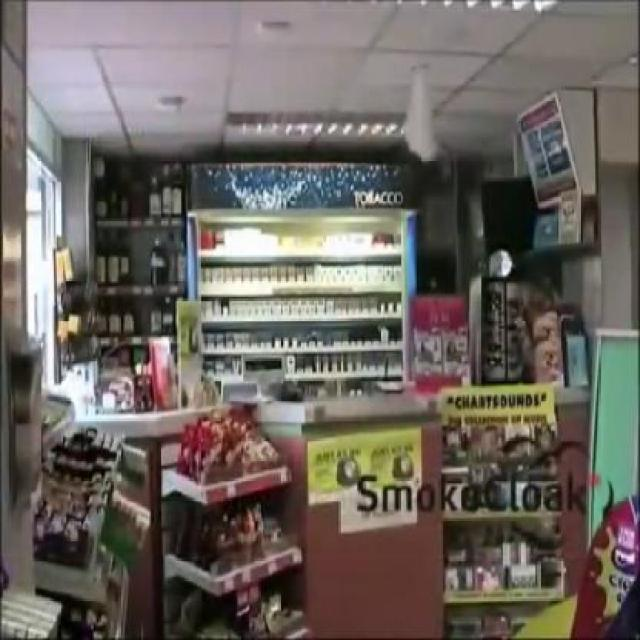fire: (397, 54, 446, 168)
